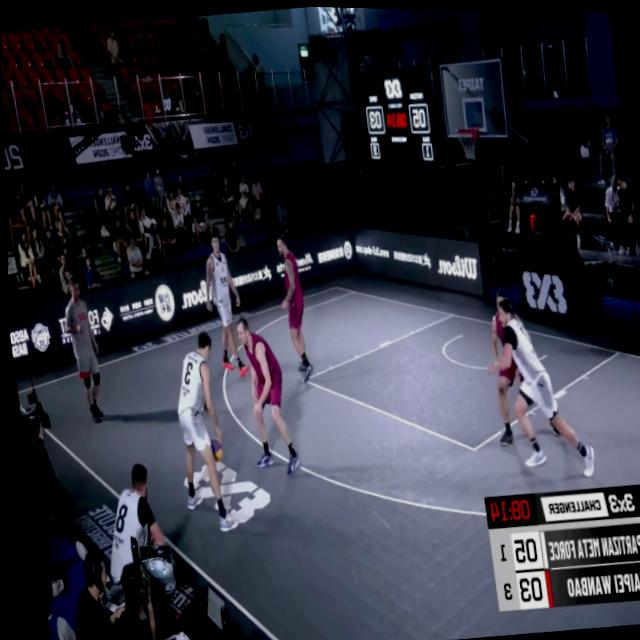ball: (202, 430, 223, 466)
hoop: (452, 119, 482, 162)
player: (491, 285, 594, 474), (476, 278, 565, 450), (164, 331, 234, 527), (233, 310, 295, 476), (197, 232, 246, 375), (270, 230, 313, 382)
